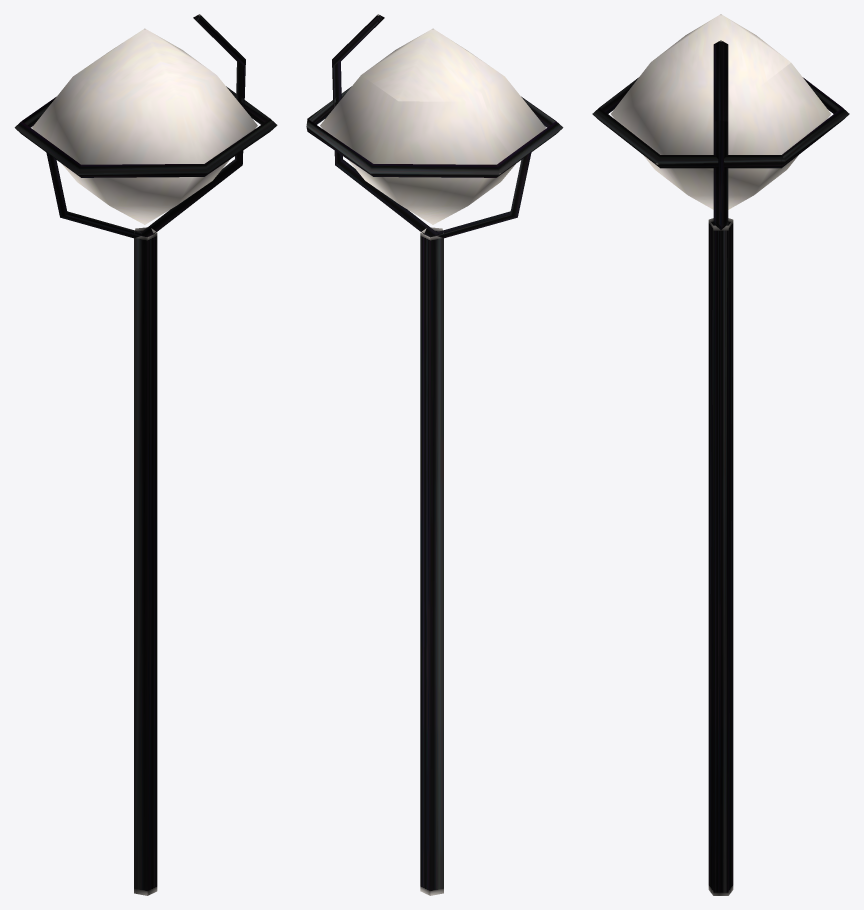
File: frn_all_streetlamp_sm_s2_l2.fbx
3 renders of one model, left to right at view 1: azimuth 30°, elevation 25°; view 2: azimuth 150°, elevation 25°; view 3: azimuth 270°, elevation 25°, orthographic.
Parts seen in each view (by area): view 1: mesh_node; view 2: mesh_node; view 3: mesh_node.
Boxes of the visible parts, bbox=[...] form: mesh_node: bbox=[14, 14, 277, 895]; mesh_node: bbox=[306, 14, 563, 895]; mesh_node: bbox=[592, 14, 849, 895].
Bounding box in the file's own units: 0.7277 × 3 × 0.7978.
